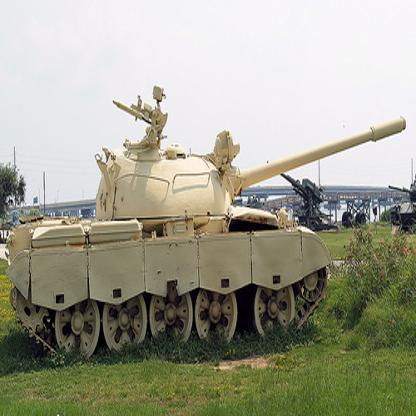Tank: (10, 76, 416, 363)
